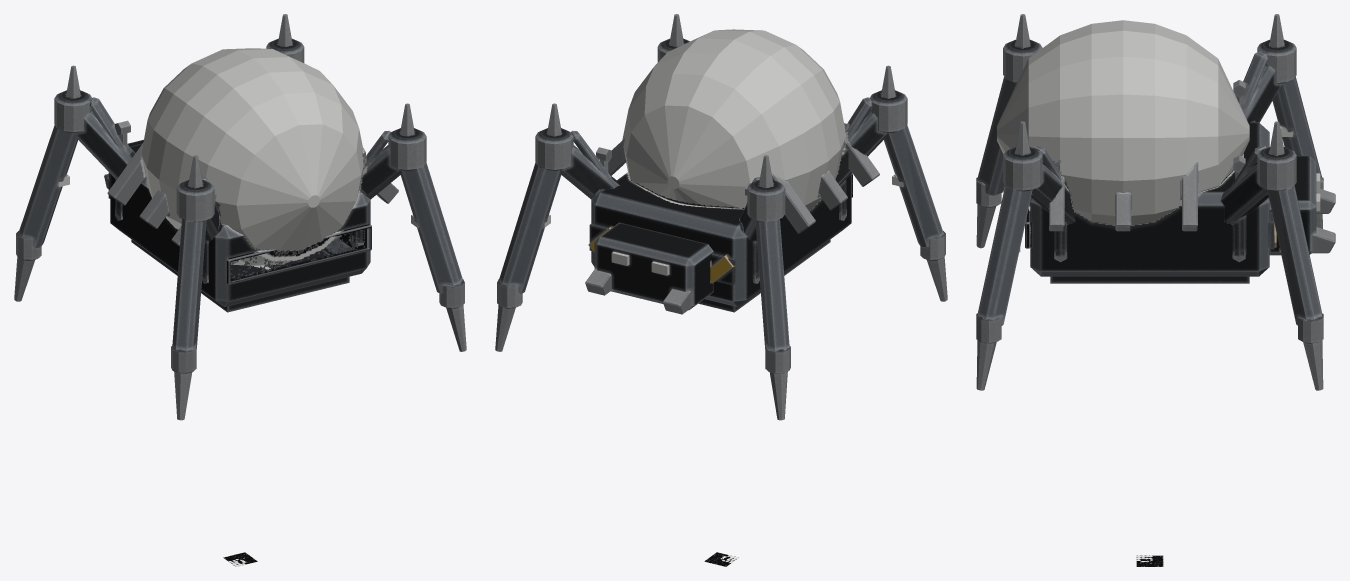
The model's file is chs_blister.fbx.
The picture shows the model from 3 angles, left to right: view 1: azimuth 30°, elevation 25°; view 2: azimuth 150°, elevation 25°; view 3: azimuth 270°, elevation 25°; orthographic projection. The views are drawn at different scales.
Visible parts, largest first — view 1: base_glow_power_bar, base_bar, shinBR_bar, shinBL_bar, shinFL_bar, thighFL_bar, thighBR_bar, thighBL_bar; view 2: base_glow_power_bar, base_bar, torso_bar, shinFR_bar, shinFL_bar, shinBL_bar, thighFR_bar, thighBL_bar, thighFL_bar; view 3: base_glow_power_bar, base_bar, shinFR_bar, shinBR_bar, thighFR_bar, thighBR_bar, thighFL_bar, shinBL_bar, torso_bar, shinFL_bar, thighBL_bar.
Boxes of the visible parts, x1,y1,x2,y2 form: base_glow_power_bar: (141, 48, 363, 265); base_bar: (107, 143, 398, 312); shinBR_bar: (400, 103, 466, 351); shinBL_bar: (171, 155, 206, 420); shinFL_bar: (14, 65, 80, 301); thighFL_bar: (54, 90, 135, 220); thighBR_bar: (334, 128, 426, 246); thighBL_bar: (176, 177, 238, 283); base_glow_power_bar: (622, 29, 846, 210); base_bar: (588, 138, 879, 312); torso_bar: (585, 222, 713, 314); shinFR_bar: (495, 103, 561, 351); shinFL_bar: (755, 155, 790, 420); shinBL_bar: (881, 65, 947, 301); thighFR_bar: (535, 128, 619, 199); thighBL_bar: (835, 90, 907, 220); thighFL_bar: (739, 177, 785, 283); base_glow_power_bar: (997, 20, 1249, 225); base_bar: (1025, 122, 1276, 283); shinFR_bar: (1267, 121, 1323, 390); shinBR_bar: (976, 121, 1032, 390); thighFR_bar: (1221, 146, 1296, 262); thighBR_bar: (1003, 146, 1074, 262); thighFL_bar: (1233, 39, 1296, 123); shinBL_bar: (976, 14, 1030, 248); torso_bar: (1269, 156, 1335, 255); shinFL_bar: (1269, 14, 1323, 228); thighBL_bar: (1003, 39, 1042, 83).
Size of the model in its own units: 262 by 440 by 270.
Materials: 2 (2 with a texture image).
